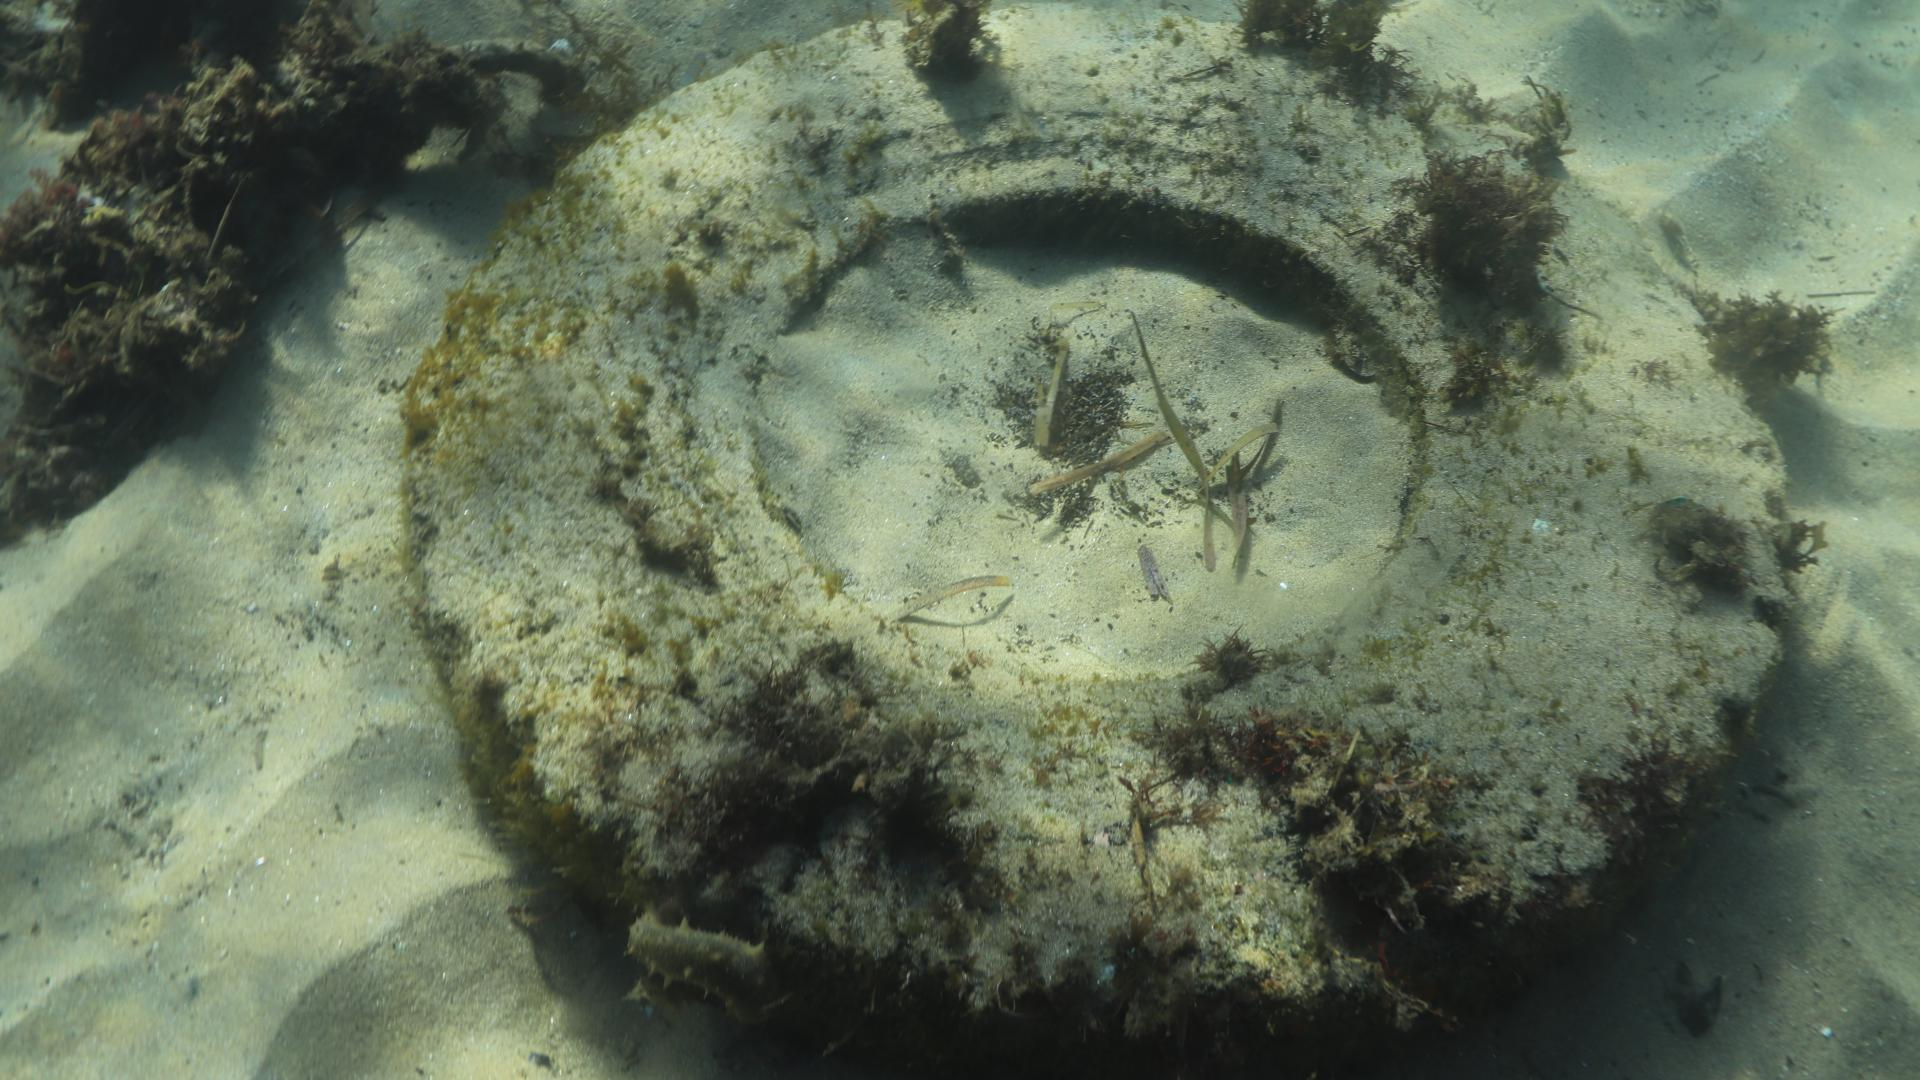tire: (407, 0, 1791, 1080)
